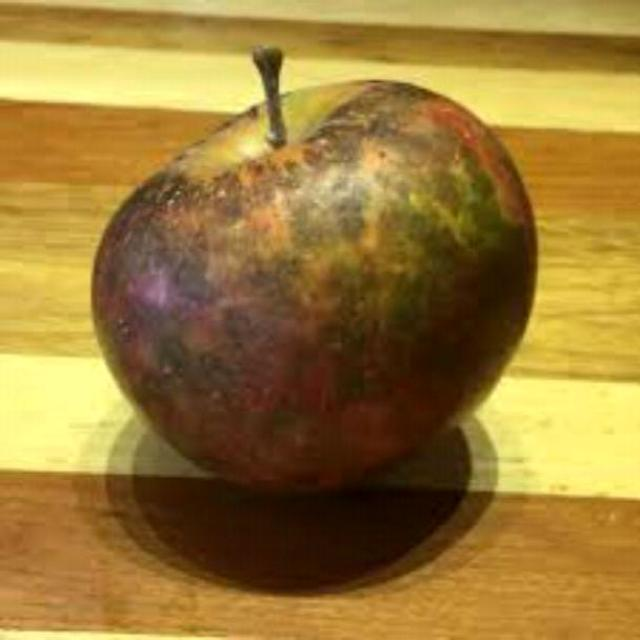BLOTCH: (78, 30, 550, 499)
